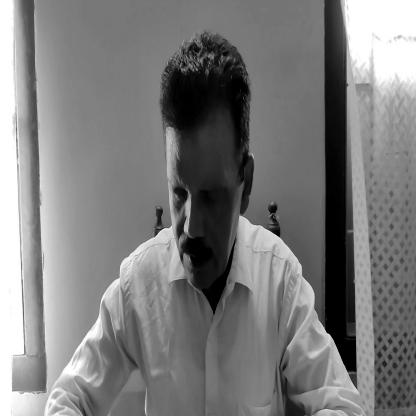Distracted: (159, 46, 260, 296)
